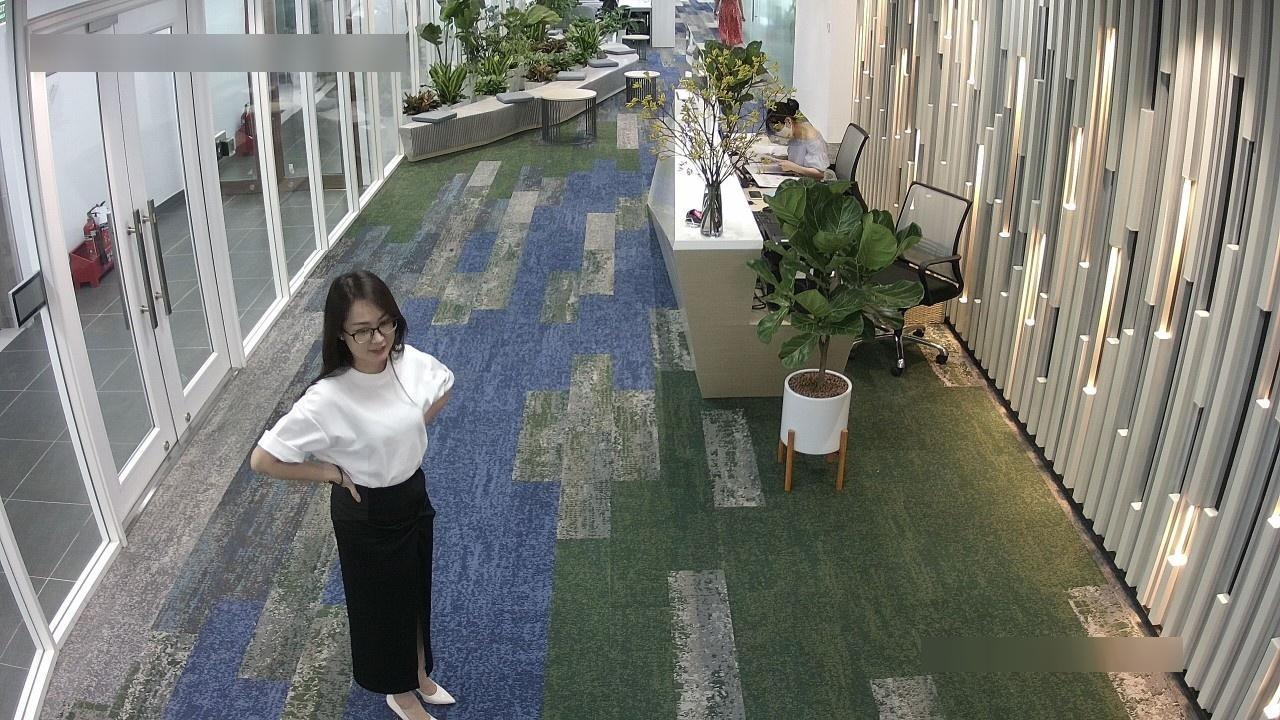mask: (768, 122, 802, 146)
no_apron: (325, 449, 369, 521), (773, 155, 801, 175)
no_gloves: (305, 250, 413, 384), (759, 91, 816, 137)
no_hairnet: (334, 297, 405, 369)
